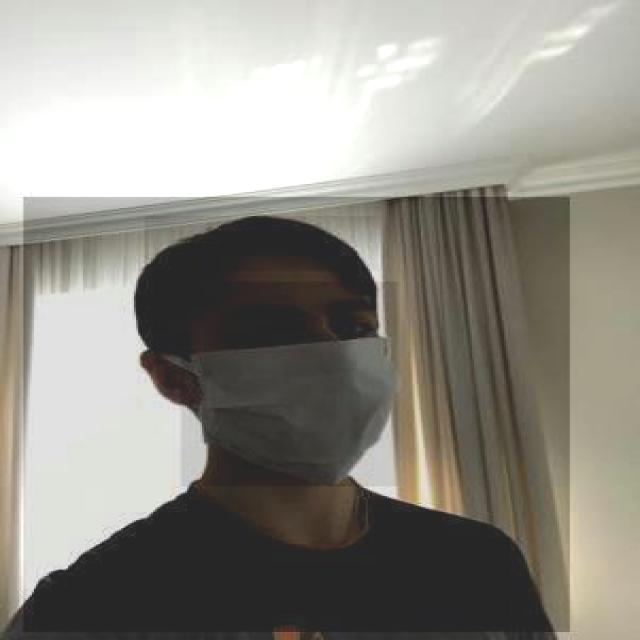face_mask: (180, 282, 398, 486)
head_nohelmet: (144, 216, 378, 270)
person: (23, 196, 572, 634)
